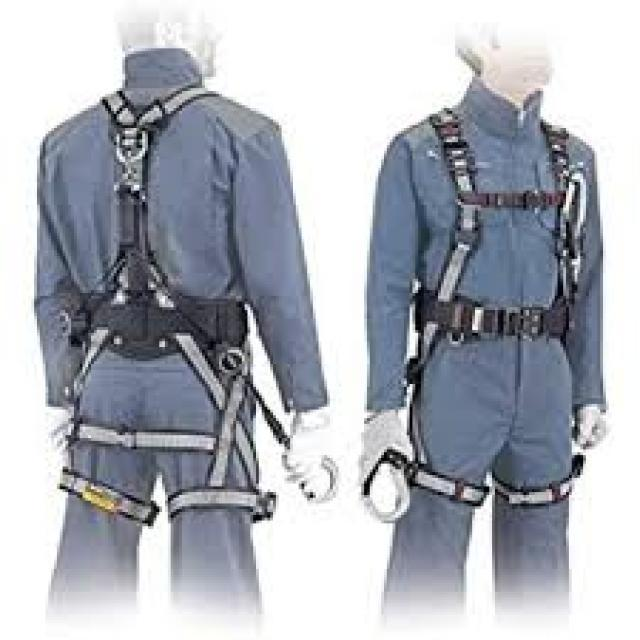belt: (54, 92, 278, 526), (396, 105, 584, 509)
